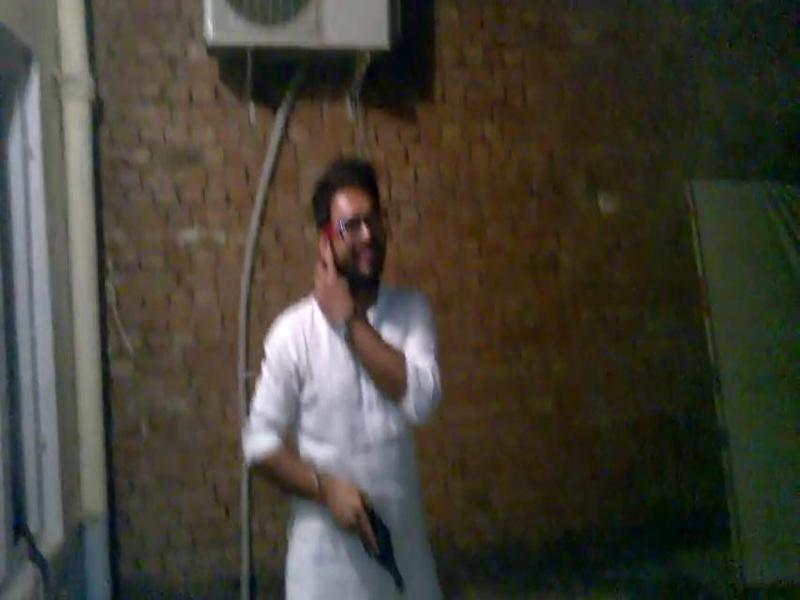Revolver: (337, 487, 422, 600)
